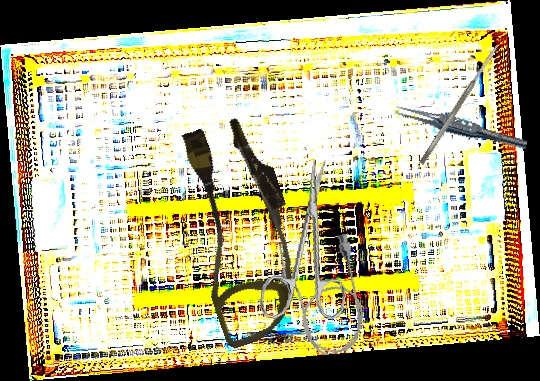Cannula: (158, 110, 325, 351), (271, 226, 374, 362)
Iris Scissors: (257, 153, 365, 329)
Spatula Surgical: (418, 43, 501, 166)
Tissue Forceps: (392, 101, 530, 153)
